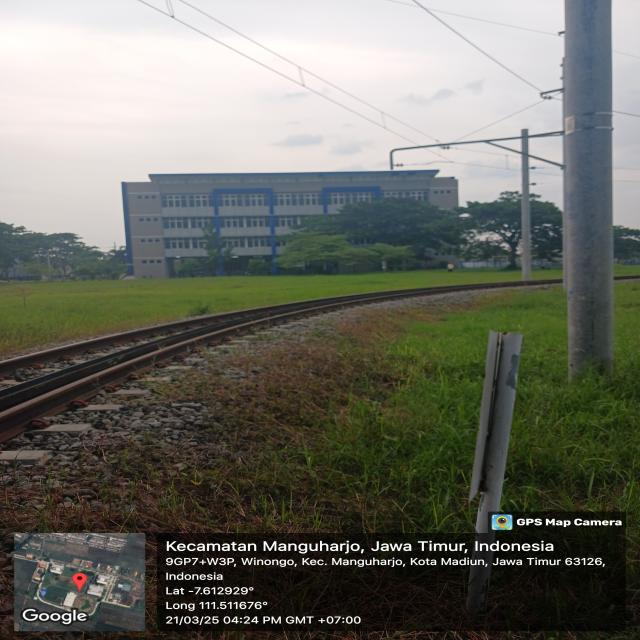rail-detection: (0, 280, 559, 442)
